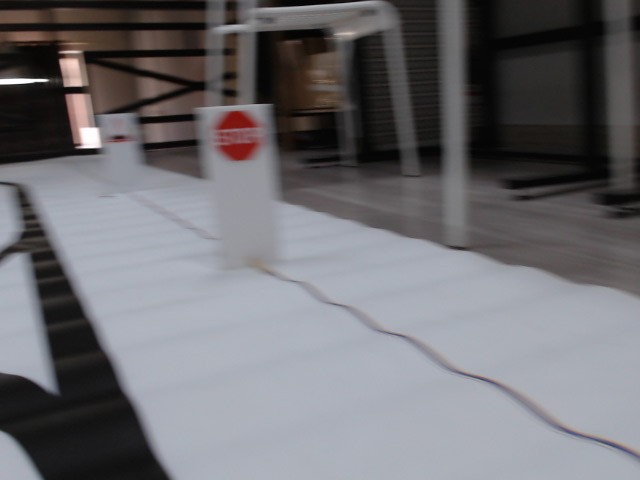Stop: (216, 112, 266, 163)
